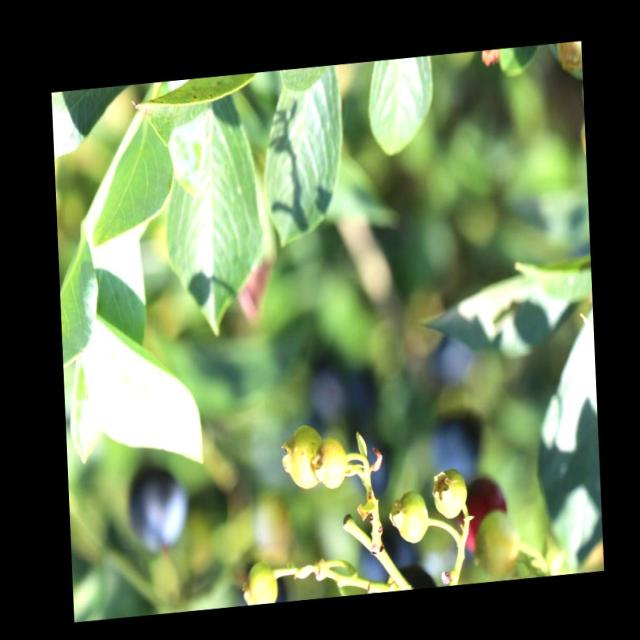blueberry: (122, 463, 191, 552)
blueberry-unripe: (282, 422, 322, 494), (430, 462, 469, 522), (394, 486, 428, 545), (312, 436, 348, 491), (238, 558, 276, 604)
